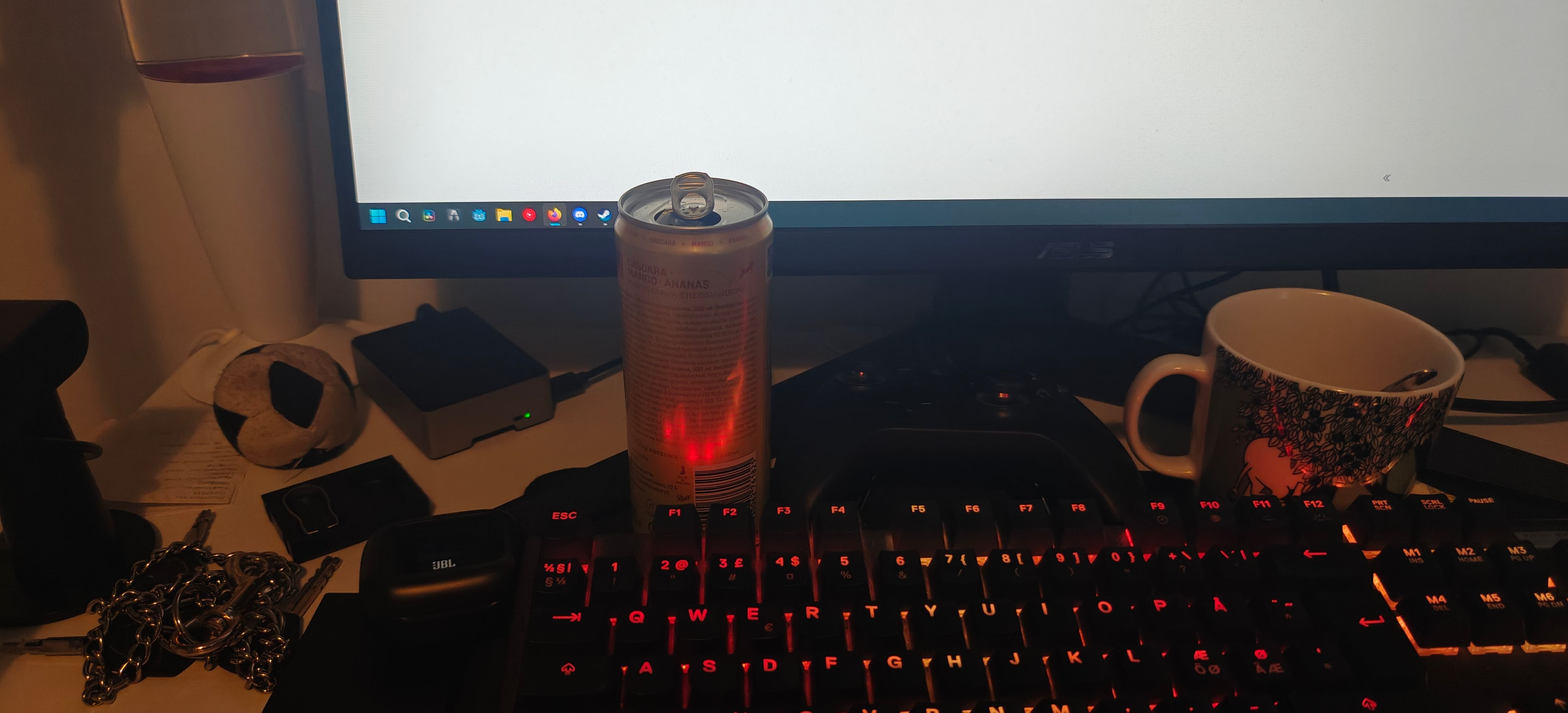Pantburk: (615, 173, 774, 571)
